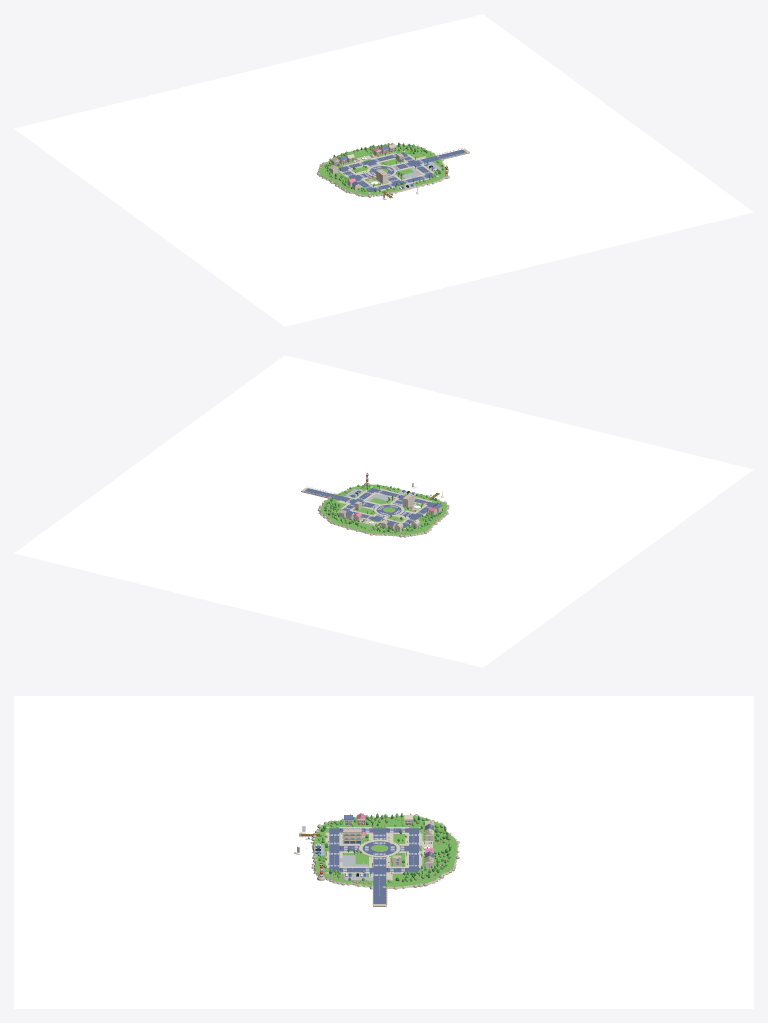
The model's file is town-environment.glb.
The picture shows the model from 3 angles, top to bottom: view 1: azimuth 30°, elevation 25°; view 2: azimuth 150°, elevation 25°; view 3: azimuth 270°, elevation 25°; orthographic projection. The views are drawn at different scales.
Visible parts, largest first — view 1: Town_environment; view 2: Town_environment; view 3: Town_environment.
Boxes of the visible parts, x1=… form: Town_environment: x1=14, y1=14, x2=753, y2=326; Town_environment: x1=14, y1=355, x2=753, y2=667; Town_environment: x1=14, y1=696, x2=753, y2=1008.
Bounding box in the file's own units: 520 × 16.15 × 520.
